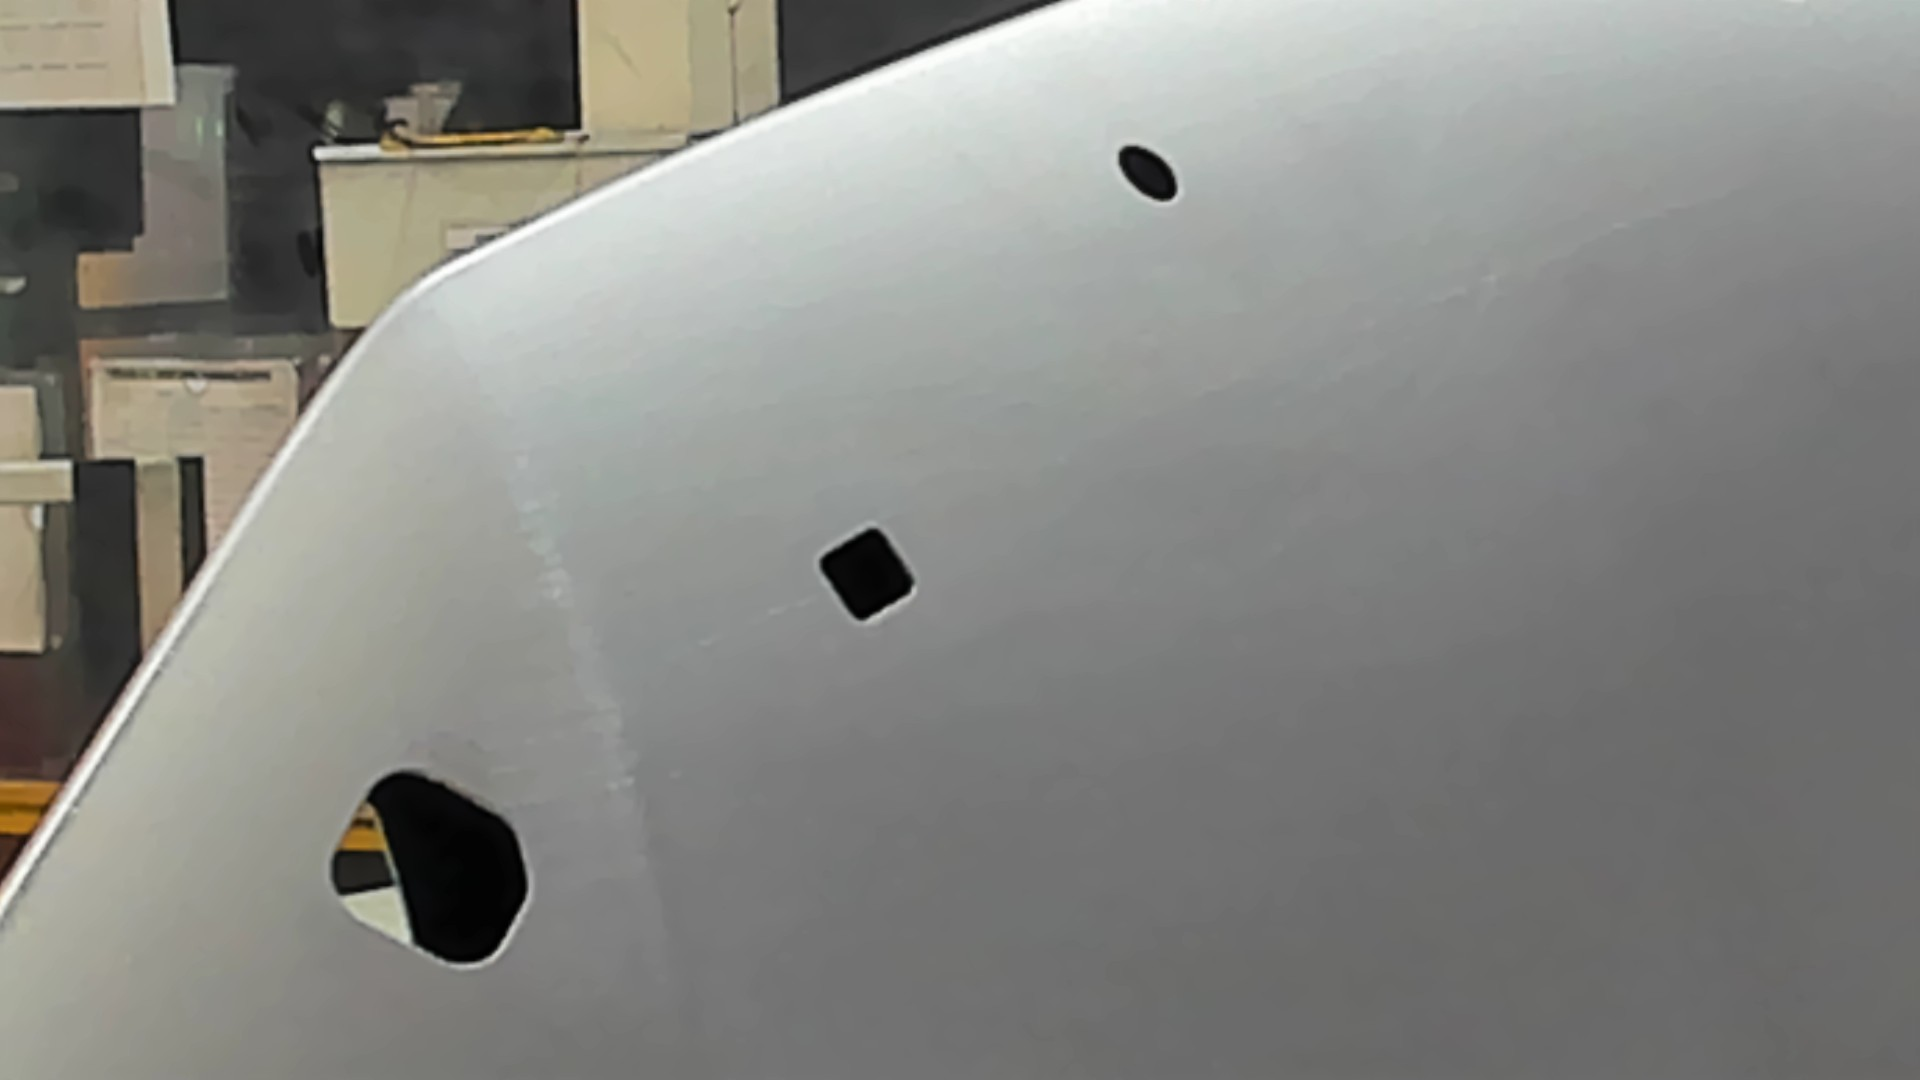Agujero: (811, 520, 916, 626), (1116, 141, 1182, 204)
Agujerote: (328, 770, 531, 971)
